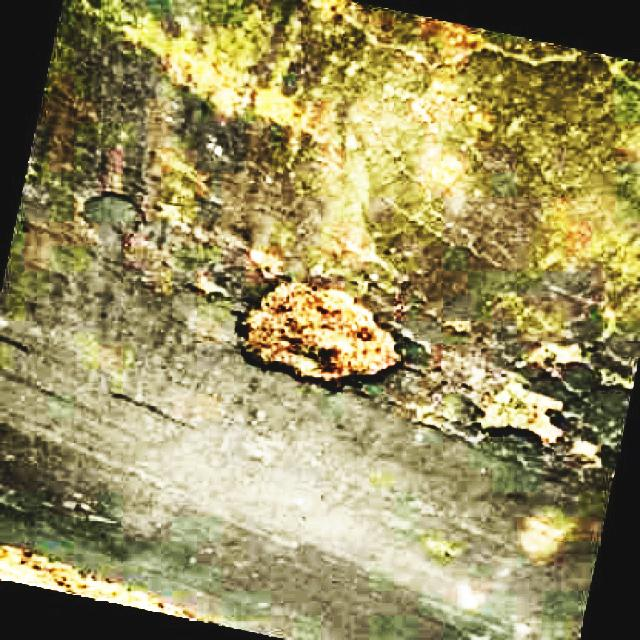pothole: (232, 275, 408, 388), (472, 372, 566, 445)
